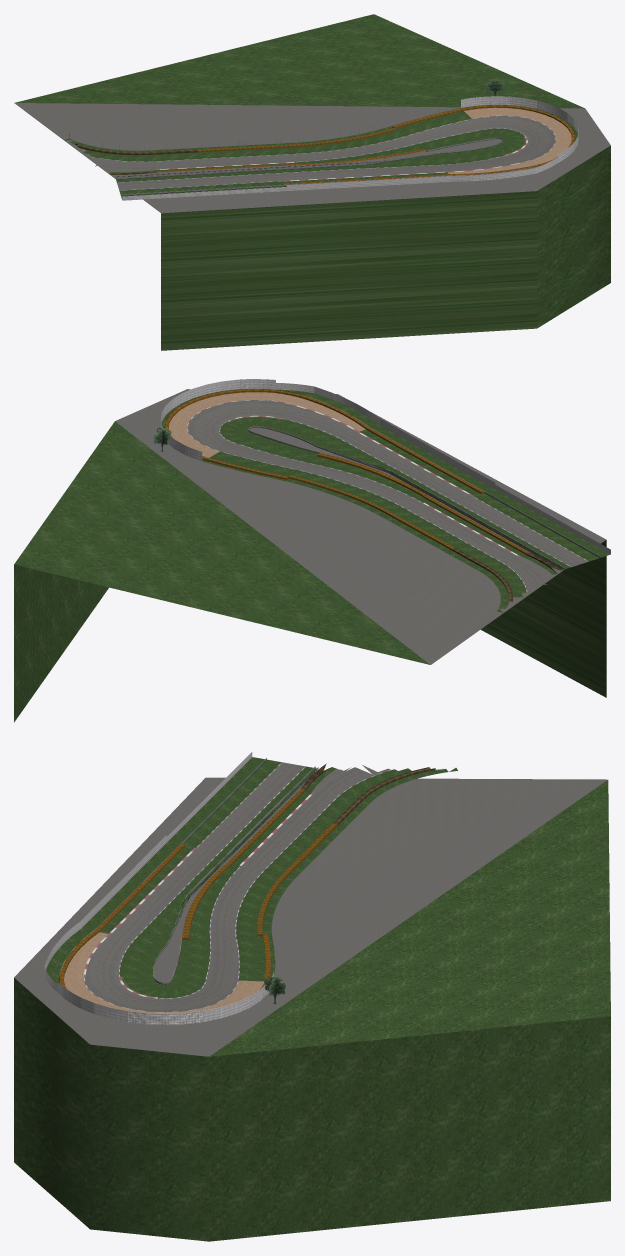
The model's file is tsukubac3.glb.
The picture shows the model from 3 angles, top to bottom: view 1: azimuth 30°, elevation 25°; view 2: azimuth 150°, elevation 25°; view 3: azimuth 270°, elevation 25°; orthographic projection. The views are drawn at different scales.
Parts seen in each view (by area): view 1: tsukubac3; view 2: tsukubac3; view 3: tsukubac3.
Part boxes in pixels (box(x1,y1,x2,y2)): tsukubac3: box(14, 14, 610, 350); tsukubac3: box(14, 379, 610, 722); tsukubac3: box(14, 752, 610, 1241).
Size of the model in its own units: 407 by 147 by 351.
Materials: 15 (15 with a texture image).
